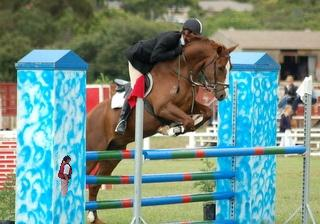tampered: (59, 156, 241, 196)
